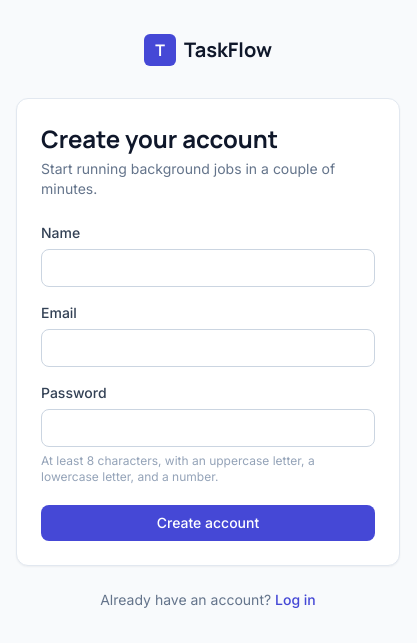
Test case: RegisterPage › shows a server-side duplicate-email error without navigating
Step 1. Type "Ada Lovelace" into the field labelled "Name" → (208, 268), box [41,249,375,287]
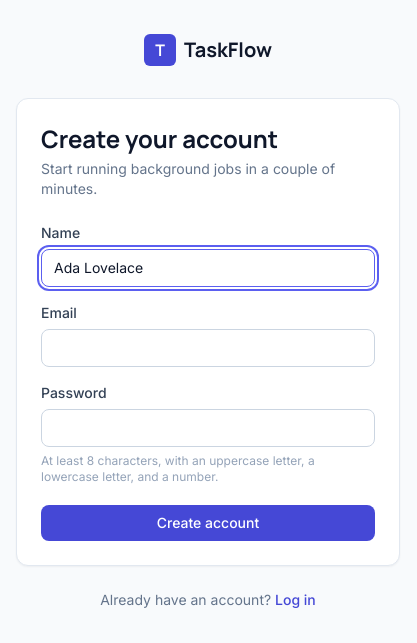
Step 2. Type "ada@example.com" into the field labelled "Email" → (208, 348), box [41,329,375,367]
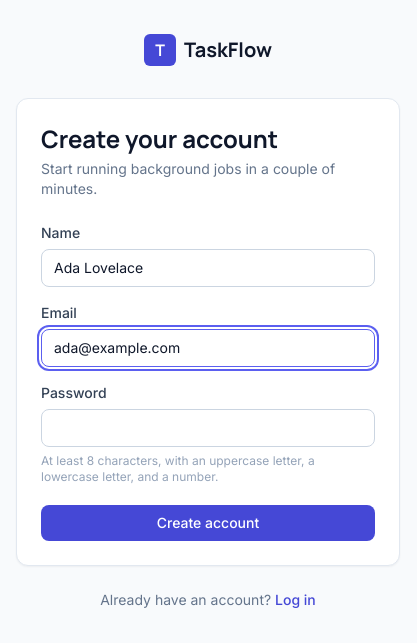
Step 3. Type "Password123" into the password field labelled "Password" → (208, 428), box [41,409,375,447]
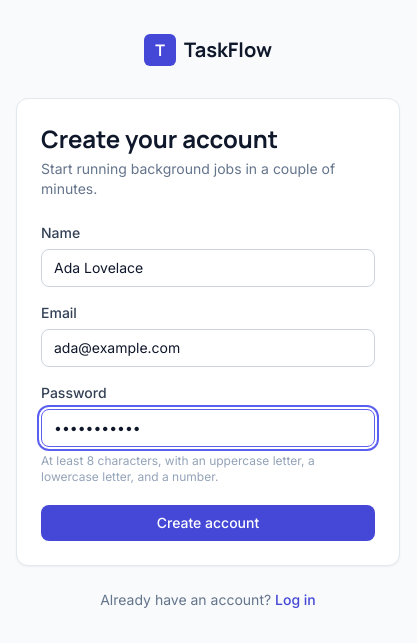
Step 4. Submit the form named "Create account", box [41,223,375,541]
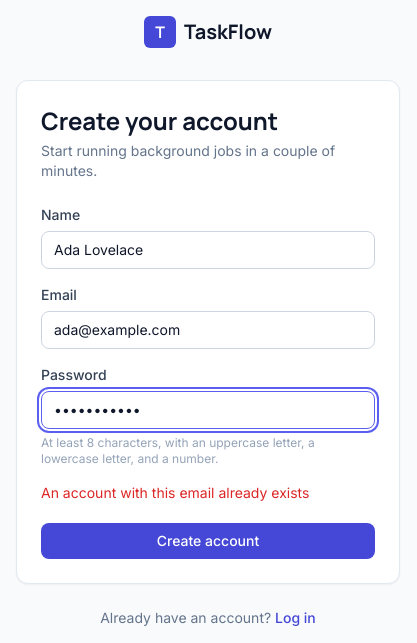
Check: the text "An account with this email already exists" is shown, box [41,484,309,501]
